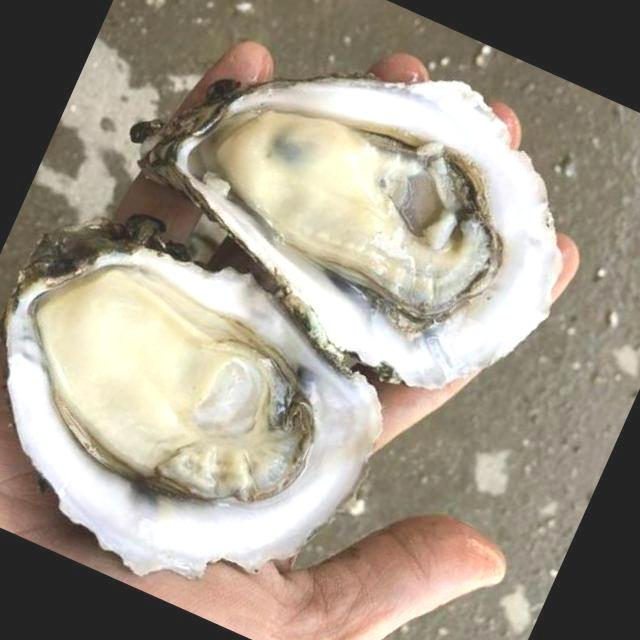Oyster-Open: (6, 224, 384, 580), (138, 77, 564, 391)
